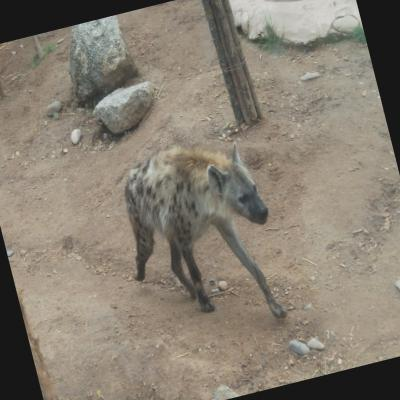hyenas: (88, 105, 316, 365)
